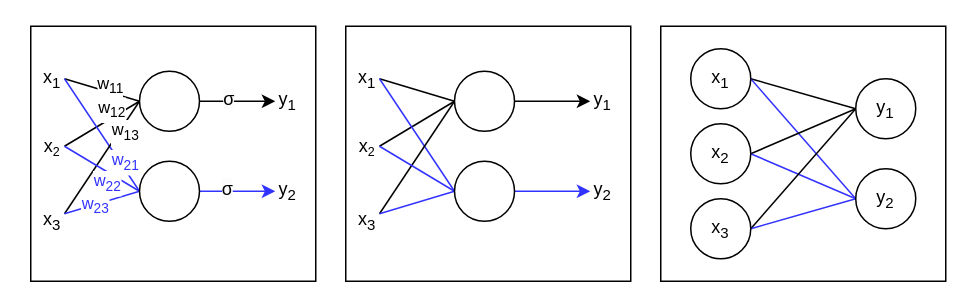
The diagram is 972 pixels wide and 308 high, and some of its shapes have lost their labels. The centre of each missing label's shape, as x and y in pixels:
"b 1" belongs at point (169, 100).
"b 2" belongs at point (169, 190).
